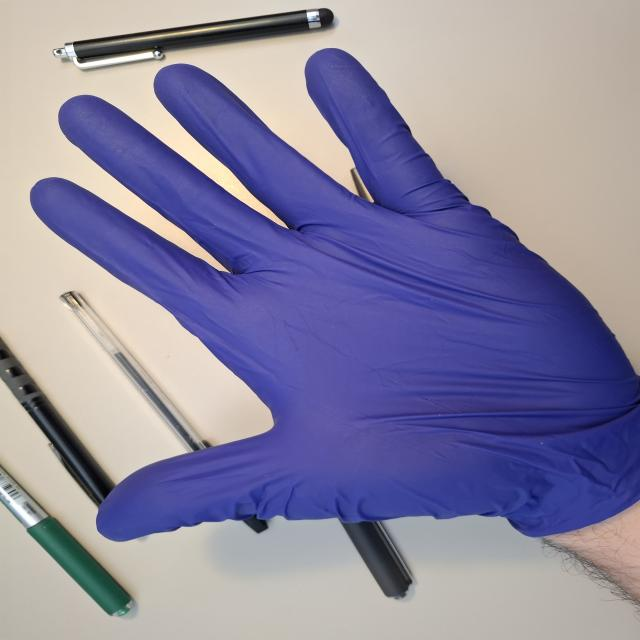glove_on: (27, 46, 640, 544)
